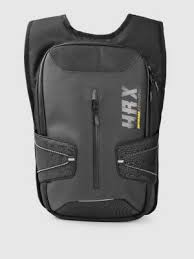backpack: (23, 12, 167, 222)
